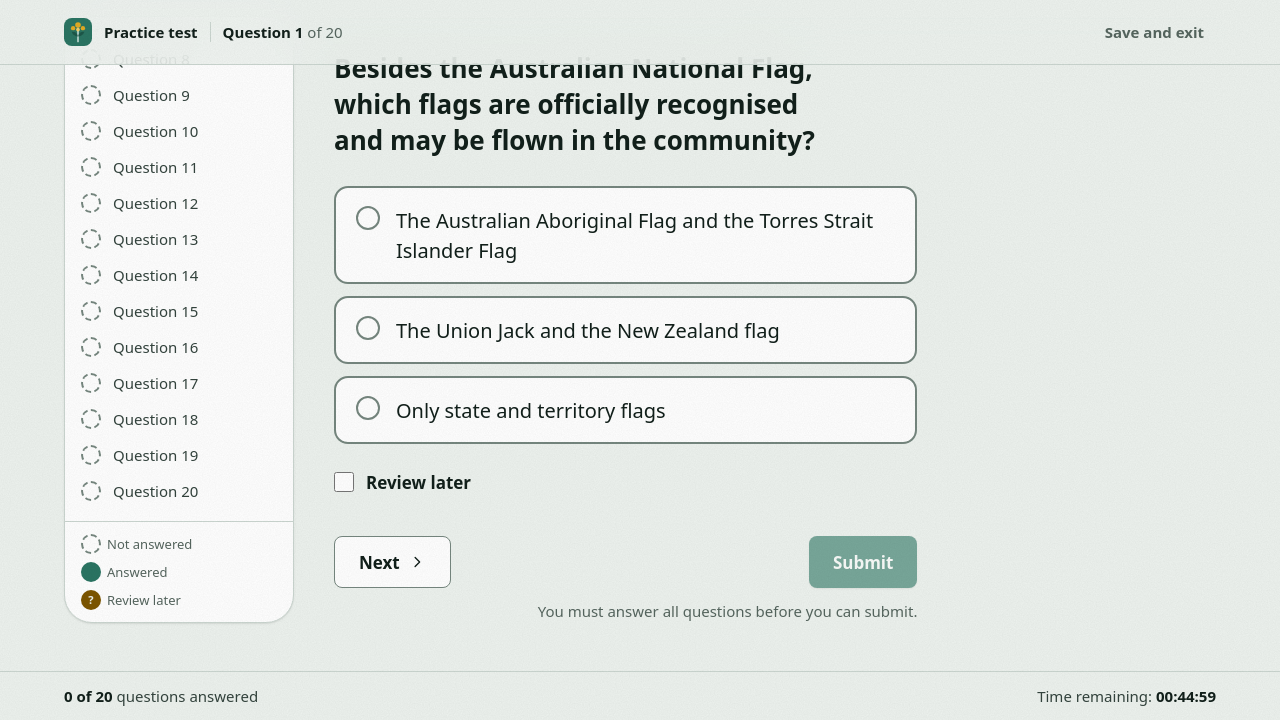
ExamScreen › shows only Next and Submit on the first question, and Previous and Submit on the last
The width and height of the screenshot is (1280, 720).
(page scrolled)
Expected: the button "Previous" is not shown
Expected: the button "Next" is shown, [334, 536, 451, 588]
Click the button with aria-label "Question 20," at (179, 491), box [65, 473, 293, 509]
(page scrolled)
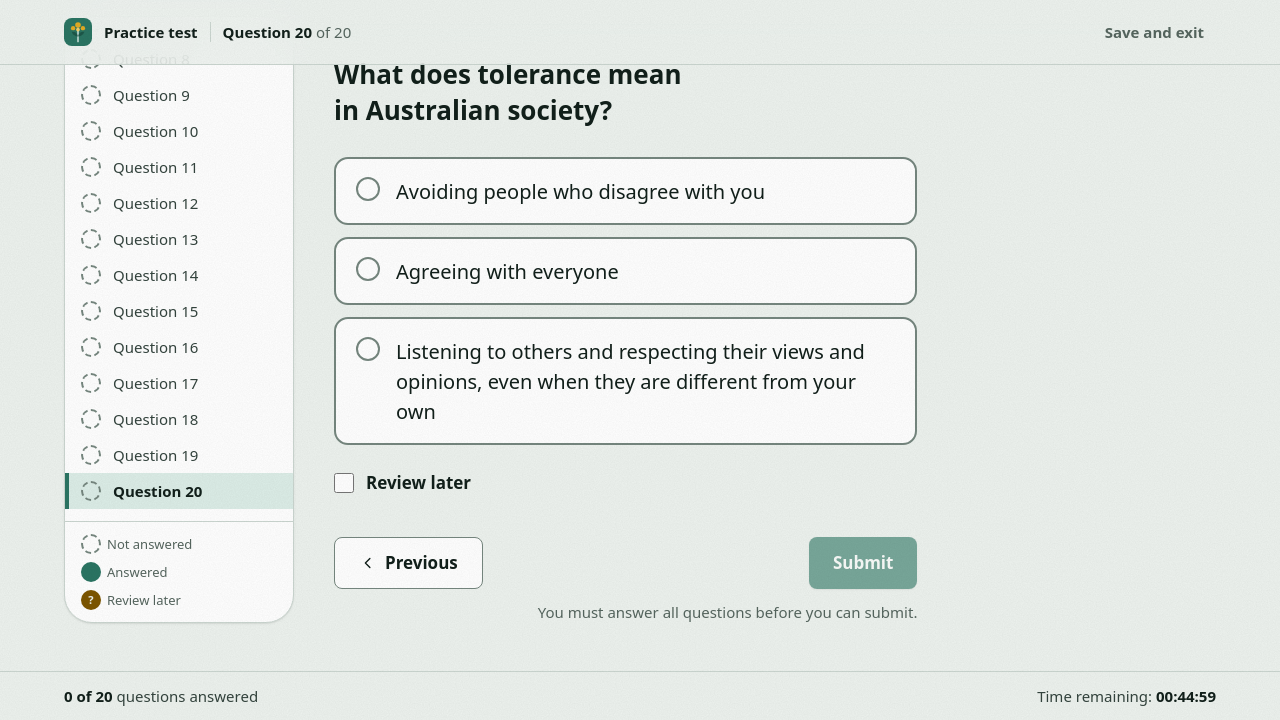
Now the button "Previous" is shown, box [334, 536, 483, 588]
Now the button "Next" is gone
